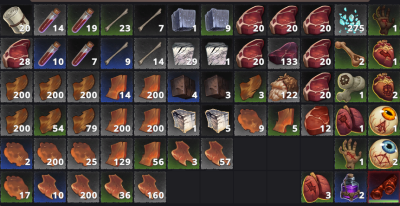blood: (67, 5, 99, 36), (34, 4, 65, 35), (68, 38, 98, 69), (35, 38, 64, 69)
bone: (100, 5, 132, 35), (134, 5, 165, 35), (101, 38, 132, 68), (135, 38, 166, 68)
durable hide: (1, 71, 32, 102), (35, 71, 65, 101), (69, 71, 98, 102), (1, 105, 31, 134), (69, 105, 98, 135), (36, 105, 65, 134), (237, 72, 264, 102)
ethereal dust: (336, 5, 367, 35)
granite stone: (167, 5, 200, 36), (202, 4, 231, 34)
limestone stone: (168, 105, 198, 135), (201, 105, 231, 135)
marble stone: (202, 38, 232, 68), (169, 37, 198, 67)
slate stone: (201, 72, 231, 100), (170, 72, 198, 101)
soft hide: (234, 106, 265, 134), (2, 173, 31, 202), (36, 139, 64, 168), (69, 139, 98, 167), (2, 139, 30, 167)
strong hide: (135, 72, 165, 102), (102, 72, 131, 102), (270, 105, 298, 136), (136, 139, 165, 168), (104, 139, 132, 169), (136, 105, 164, 134), (104, 106, 131, 135)
tough hide: (68, 171, 99, 201), (102, 171, 132, 201), (135, 171, 165, 201), (167, 139, 197, 168), (35, 173, 65, 202), (202, 139, 231, 168)
